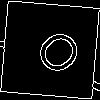O: (25, 25, 86, 86)
